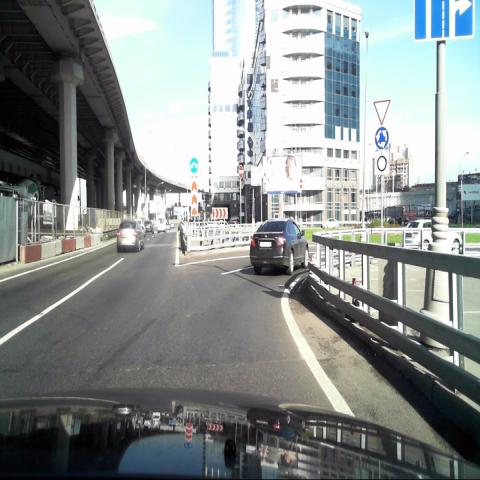4_3: (375, 125, 389, 150)
